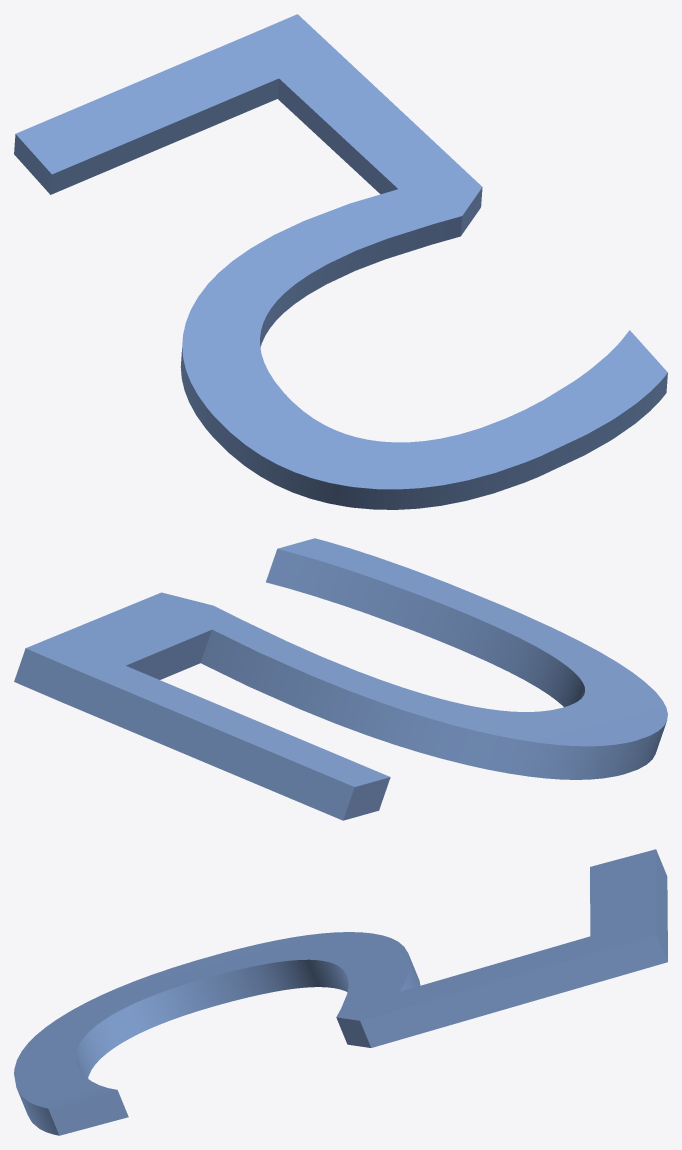
The model's file is New_Number_5.gltf.
The picture shows the model from 3 angles, top to bottom: view 1: azimuth 30°, elevation 25°; view 2: azimuth 150°, elevation 25°; view 3: azimuth 270°, elevation 25°; orthographic projection. The views are drawn at different scales.
Visible parts, largest first — view 1: Part 608; view 2: Part 608; view 3: Part 608.
Boxes of the visible parts, x1,y1,x2,y2 form: Part 608: (14,14,667,509); Part 608: (14,538,667,820); Part 608: (14,849,667,1135).
Size of the model in its own units: 0.00352 by 0.00202 by 0.00549.
